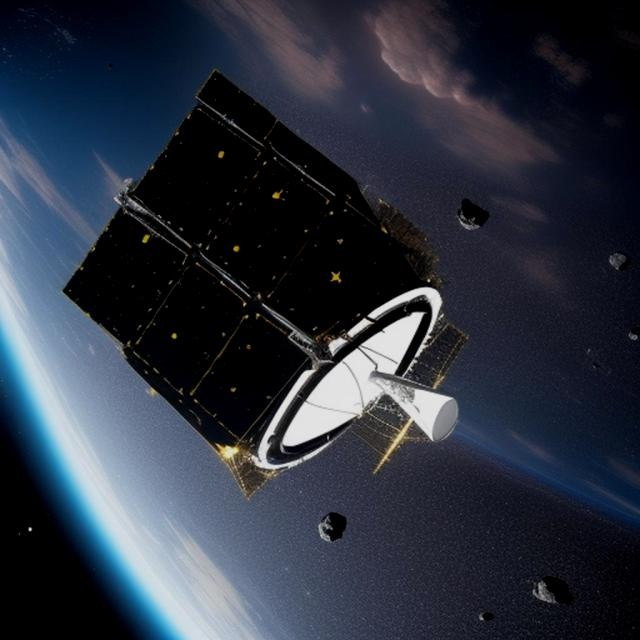large_debris: (520, 548, 596, 620), (447, 177, 508, 245), (319, 505, 353, 545)
satellite: (54, 45, 470, 535)
